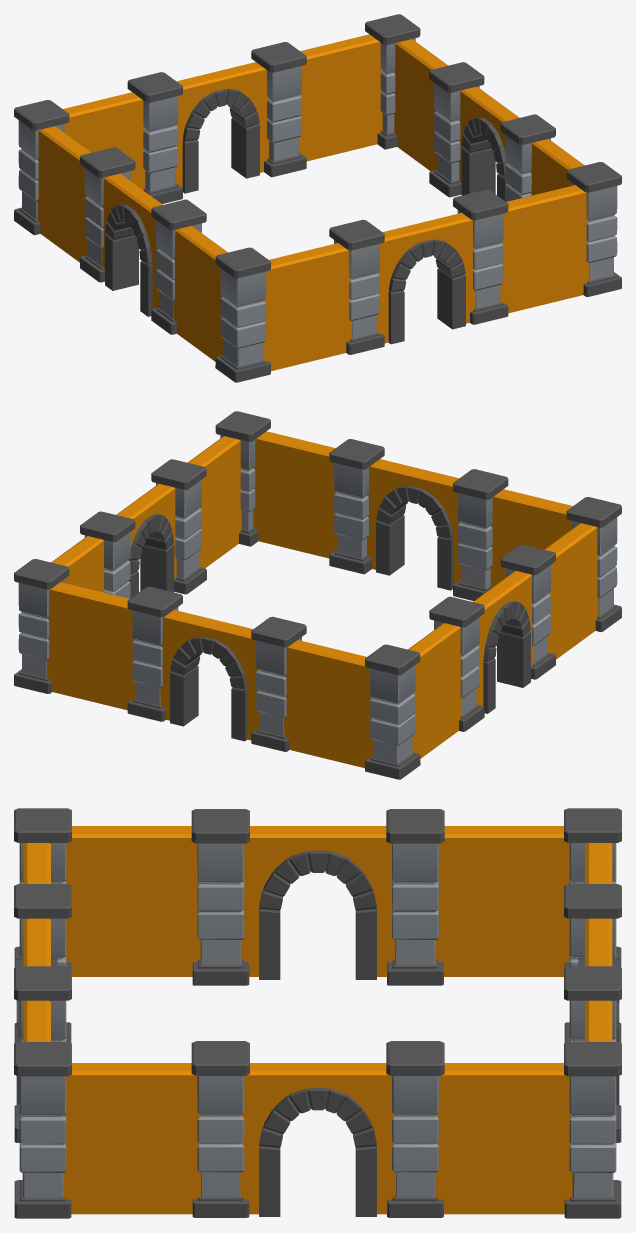
File: EncounterRoom.fbx
The picture shows the model from 3 angles, top to bottom: view 1: azimuth 30°, elevation 25°; view 2: azimuth 150°, elevation 25°; view 3: azimuth 270°, elevation 25°; orthographic projection. The views are drawn at different scales.
Parts seen in each view (by area): view 1: Room; view 2: Room; view 3: Room.
Part boxes in pixels (x1,y1,x2,y2): Room: [14, 14, 621, 382]; Room: [14, 411, 621, 779]; Room: [14, 808, 621, 1218].
Size of the model in its own units: 1568 by 435 by 1562.
